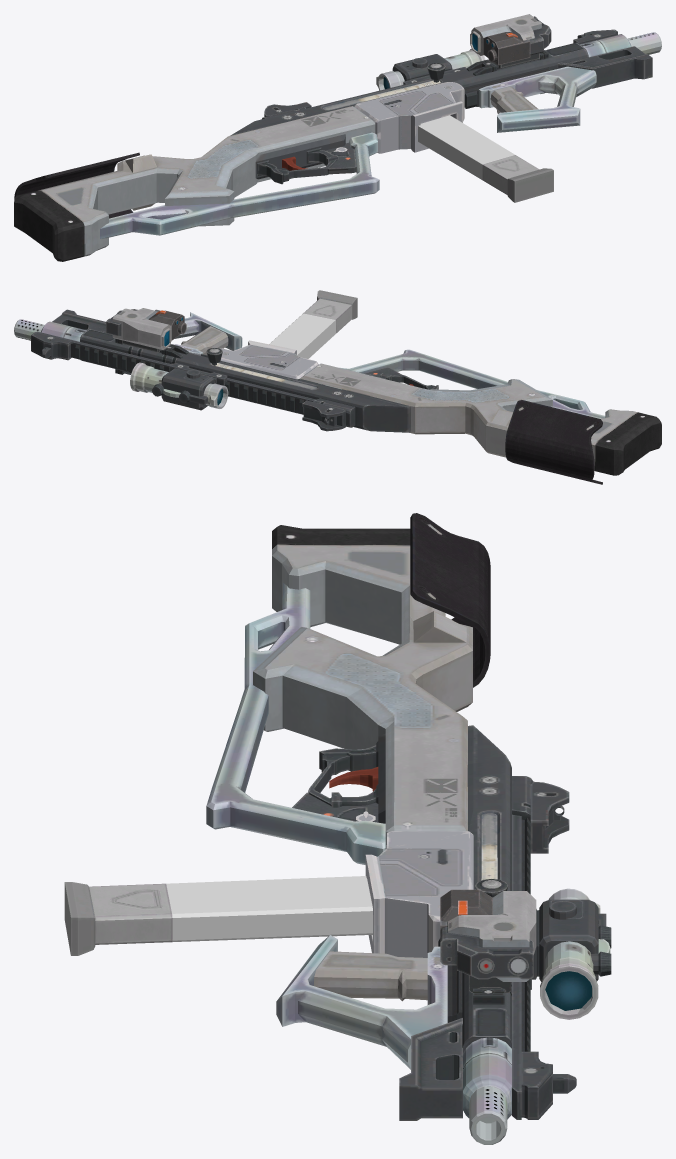
3 renders of one model, top to bottom at view 1: azimuth 30°, elevation 25°; view 2: azimuth 150°, elevation 25°; view 3: azimuth 270°, elevation 25°, orthographic. The views are drawn at different scales.
Parts seen in each view (by area): view 1: wp01d_a001c_sm.mo, wp01d_magazine001c_sm.mo, wp01d_attach001c_sm.mo, wp01d_scope001a_sm.mo, wp01d_muzzle001a_sm.mo; view 2: wp01d_a001c_sm.mo, wp01d_scope001a_sm.mo, wp01d_magazine001c_sm.mo, wp01d_attach001c_sm.mo, wp01d_muzzle001a_sm.mo; view 3: wp01d_a001c_sm.mo, wp01d_magazine001c_sm.mo, wp01d_attach001c_sm.mo, wp01d_scope001a_sm.mo, wp01d_muzzle001a_sm.mo.
Boxes of the visible parts, bbox=[...] form: wp01d_a001c_sm.mo: bbox=[14, 29, 652, 261]; wp01d_magazine001c_sm.mo: bbox=[418, 115, 553, 202]; wp01d_attach001c_sm.mo: bbox=[470, 14, 551, 68]; wp01d_scope001a_sm.mo: bbox=[376, 48, 485, 90]; wp01d_muzzle001a_sm.mo: bbox=[627, 32, 661, 54]; wp01d_a001c_sm.mo: bbox=[31, 309, 661, 484]; wp01d_scope001a_sm.mo: bbox=[130, 362, 228, 410]; wp01d_magazine001c_sm.mo: bbox=[269, 290, 357, 358]; wp01d_attach001c_sm.mo: bbox=[106, 308, 186, 352]; wp01d_muzzle001a_sm.mo: bbox=[14, 319, 44, 340]; wp01d_a001c_sm.mo: bbox=[206, 513, 576, 1120]; wp01d_magazine001c_sm.mo: bbox=[64, 876, 372, 955]; wp01d_attach001c_sm.mo: bbox=[440, 889, 536, 992]; wp01d_scope001a_sm.mo: bbox=[530, 888, 611, 1019]; wp01d_muzzle001a_sm.mo: bbox=[469, 1086, 507, 1144].
Size of the model in its own units: 0.7105 by 0.0898 by 0.2841.
6 materials, 5 textured.
